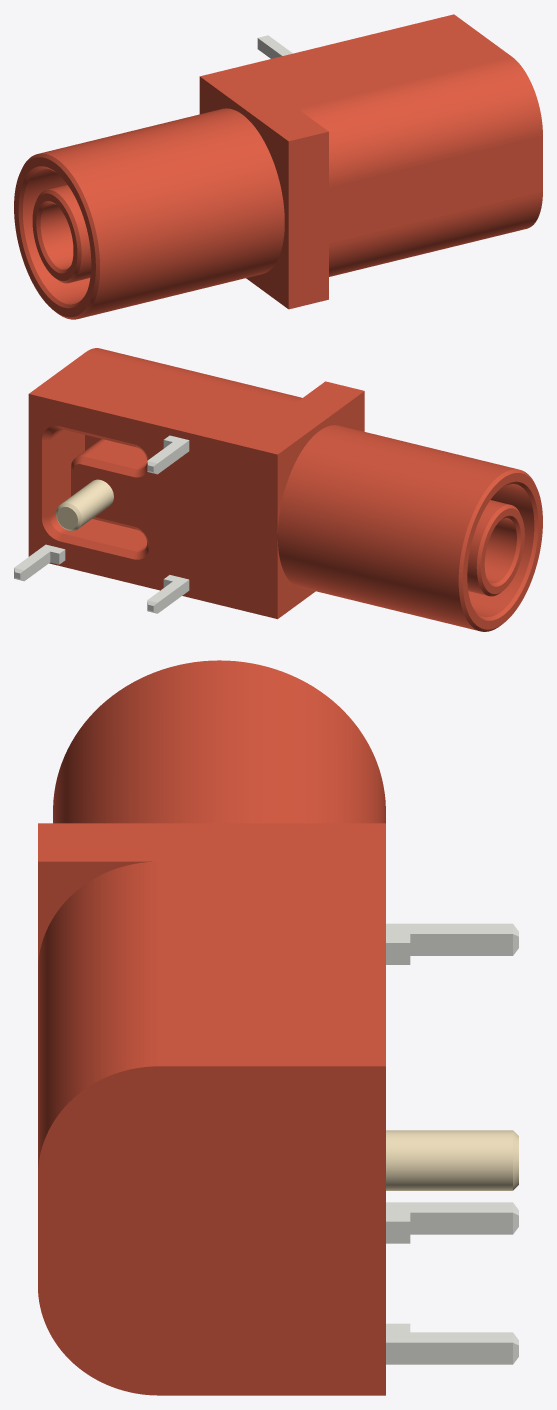
Rendered from Banana_Cliff_FCR7350R_S16N-PC_Horizontal.glb.
The picture shows the model from 3 angles, top to bottom: view 1: azimuth 30°, elevation 25°; view 2: azimuth 150°, elevation 25°; view 3: azimuth 270°, elevation 25°; orthographic projection. The views are drawn at different scales.
Parts seen in each view (by area): view 1: Shape_IndexedFaceSet.031, Shape_IndexedFaceSet.004, Shape_IndexedFaceSet.002, Shape_IndexedFaceSet.001, Shape_IndexedFaceSet.006, Shape_IndexedFaceSet.007, Shape_IndexedFaceSet.064, Shape_IndexedFaceSet.062, Shape_IndexedFaceSet.070, Shape_IndexedFaceSet.066, Shape_IndexedFaceSet.055, Shape_IndexedFaceSet.068 (+3 smaller); view 2: Shape_IndexedFaceSet.031, Shape_IndexedFaceSet.003, Shape_IndexedFaceSet.001, Shape_IndexedFaceSet.007, Shape_IndexedFaceSet.064, Shape_IndexedFaceSet.062, Shape_IndexedFaceSet.046, Shape_IndexedFaceSet.002, Shape_IndexedFaceSet.070, Shape_IndexedFaceSet.042, Shape_IndexedFaceSet.029, Shape_IndexedFaceSet.053 (+15 smaller); view 3: Shape_IndexedFaceSet, Shape_IndexedFaceSet.001, Shape_IndexedFaceSet.031, Shape_IndexedFaceSet.002, Shape_IndexedFaceSet.029, Shape_IndexedFaceSet.008, Shape_IndexedFaceSet.010, Shape_IndexedFaceSet.038, Shape_IndexedFaceSet.082, Shape_IndexedFaceSet.016, Shape_IndexedFaceSet.089, Shape_IndexedFaceSet.009.
Boxes of the visible parts, x1,y1,x2,y2 form: Shape_IndexedFaceSet.031: [40, 108, 284, 318]; Shape_IndexedFaceSet.004: [288, 131, 542, 309]; Shape_IndexedFaceSet.002: [298, 57, 542, 187]; Shape_IndexedFaceSet.001: [200, 14, 511, 141]; Shape_IndexedFaceSet.006: [329, 191, 542, 276]; Shape_IndexedFaceSet.007: [199, 76, 288, 308]; Shape_IndexedFaceSet.064: [23, 168, 90, 304]; Shape_IndexedFaceSet.062: [14, 157, 95, 317]; Shape_IndexedFaceSet.070: [40, 203, 73, 269]; Shape_IndexedFaceSet.066: [47, 185, 91, 282]; Shape_IndexedFaceSet.055: [21, 153, 99, 319]; Shape_IndexedFaceSet.068: [32, 193, 77, 280]; Shape_IndexedFaceSet.031: [277, 425, 525, 630]; Shape_IndexedFaceSet.003: [28, 394, 277, 618]; Shape_IndexedFaceSet.001: [29, 352, 363, 454]; Shape_IndexedFaceSet.007: [277, 391, 364, 618]; Shape_IndexedFaceSet.064: [468, 484, 534, 616]; Shape_IndexedFaceSet.062: [462, 473, 542, 629]; Shape_IndexedFaceSet.046: [50, 429, 84, 516]; Shape_IndexedFaceSet.002: [86, 348, 302, 403]; Shape_IndexedFaceSet.070: [484, 518, 516, 582]; Shape_IndexedFaceSet.042: [63, 519, 146, 551]; Shape_IndexedFaceSet.029: [62, 479, 113, 527]; Shape_IndexedFaceSet.053: [84, 440, 146, 469]; Shape_IndexedFaceSet: [38, 1066, 385, 1395]; Shape_IndexedFaceSet.001: [38, 823, 385, 1066]; Shape_IndexedFaceSet.031: [53, 660, 385, 823]; Shape_IndexedFaceSet.002: [38, 861, 158, 1168]; Shape_IndexedFaceSet.029: [386, 1130, 512, 1190]; Shape_IndexedFaceSet.008: [38, 861, 151, 963]; Shape_IndexedFaceSet.010: [386, 1342, 512, 1364]; Shape_IndexedFaceSet.038: [410, 1212, 512, 1234]; Shape_IndexedFaceSet.082: [410, 934, 512, 955]; Shape_IndexedFaceSet.016: [386, 1202, 512, 1221]; Shape_IndexedFaceSet.089: [386, 923, 512, 942]; Shape_IndexedFaceSet.009: [386, 1323, 512, 1342].
Size of the model in its own units: 12.99 by 4.72 by 6.26.
